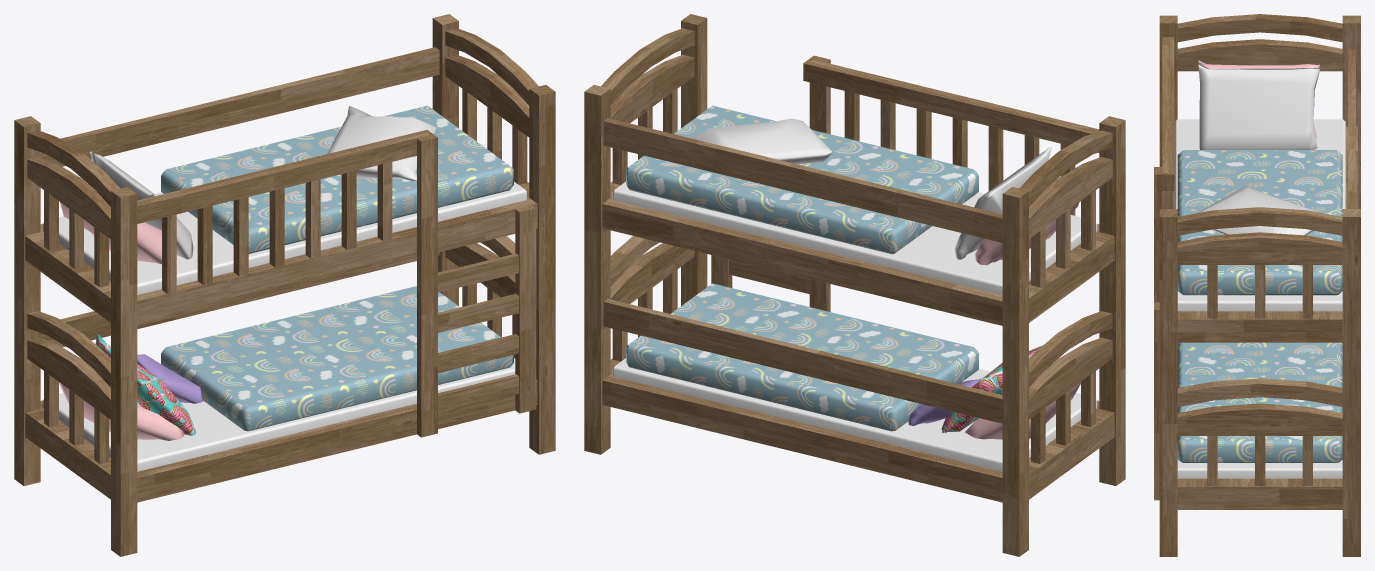
Rendered from bed_008.fbx.
The picture shows the model from 3 angles, left to right: view 1: azimuth 30°, elevation 25°; view 2: azimuth 150°, elevation 25°; view 3: azimuth 270°, elevation 25°; orthographic projection. The views are drawn at different scales.
Visible parts, largest first — view 1: bed_008; view 2: bed_008; view 3: bed_008.
Part boxes in pixels (x1,y1,x2,y2): bed_008: (14,14,555,556); bed_008: (584,14,1125,556); bed_008: (1154,14,1360,556).
Bounding box in the file's own units: 288 × 125 × 229.
